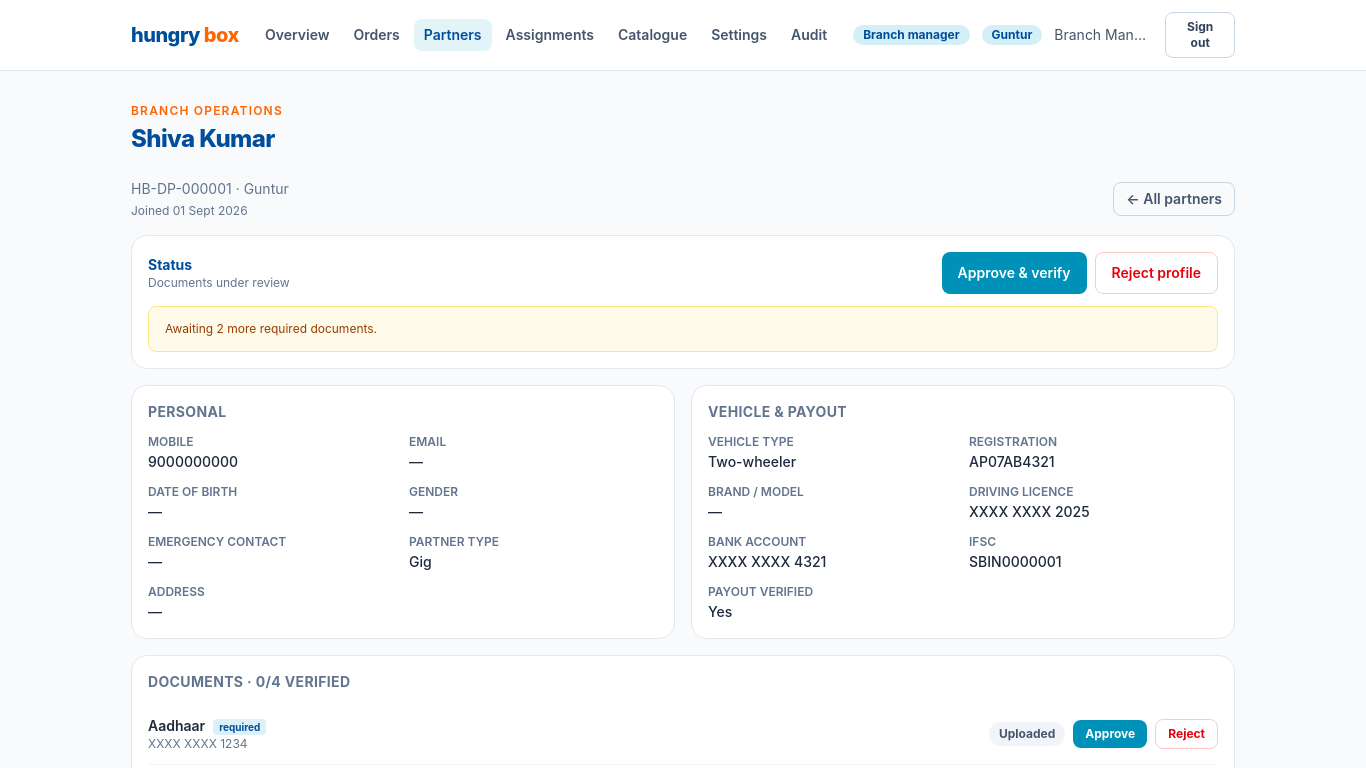
Test case: manager partner detail › reviews documents by approving an uploaded one
Expected: the heading "Shiva Kumar" is shown, x1=131 y1=123 x2=283 y2=155
Expected: the list item "Aadhaar" is shown, x1=148 y1=716 x2=205 y2=734
Click the button "Approve". click: (1110, 734)
box: x1=1073 y1=720 x2=1147 y2=748
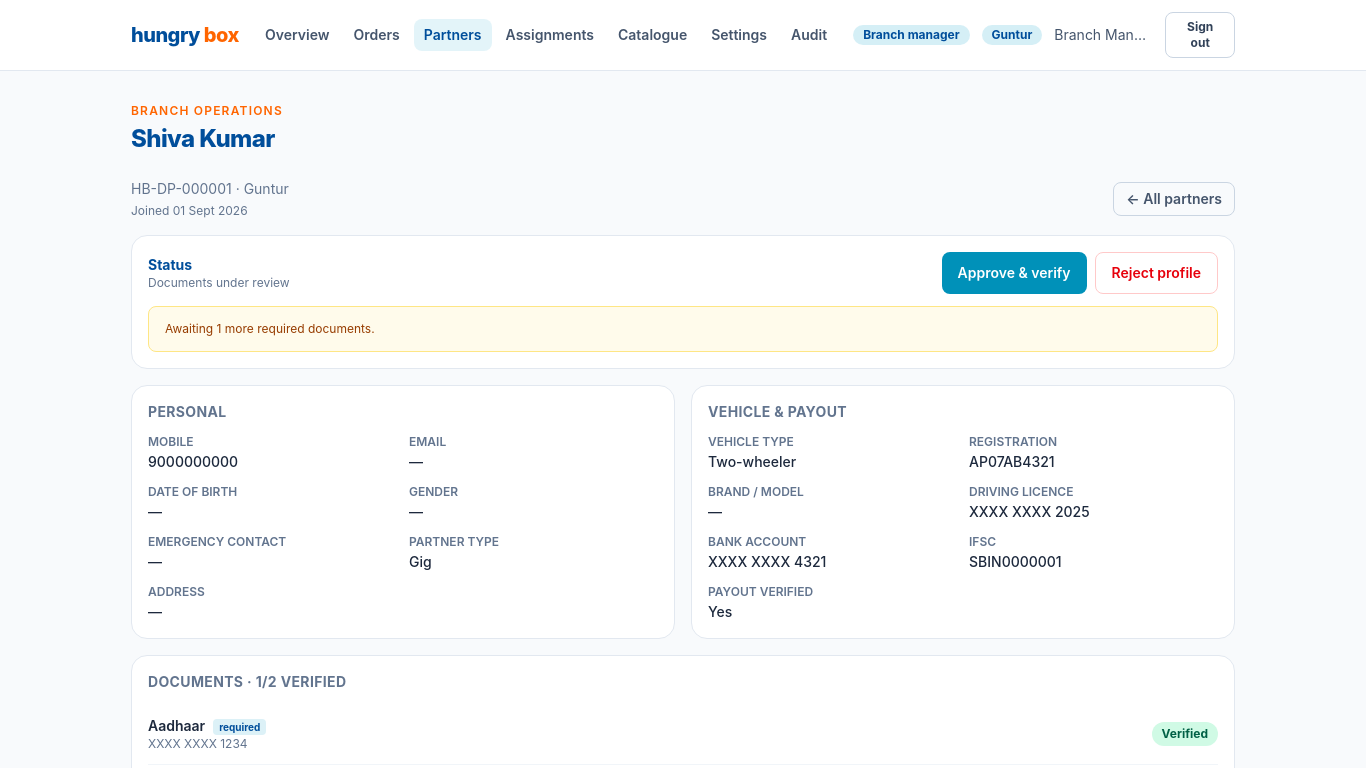
Expected: the text "Awaiting 1 more required documents." is shown, x1=148 y1=306 x2=1218 y2=352
